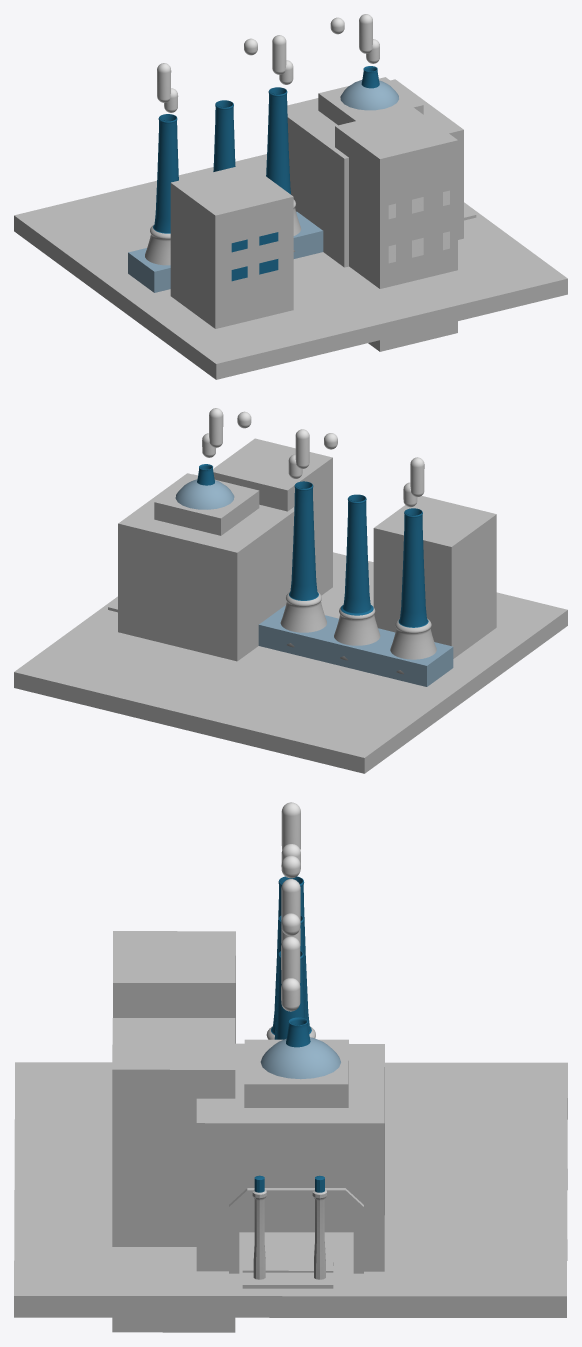
File: factory_ex_4.glb
3 views of the same model, one above another, from view 1: azimuth 30°, elevation 25°; view 2: azimuth 150°, elevation 25°; view 3: azimuth 270°, elevation 25° (orthographic). The views are drawn at different scales.
Visible parts, largest first — view 1: pCube1, pCube45, pCube44, pCube2, pCylinder1, pCylinder3, pCube3, pCylinder2, pSphere1, pSphere15, pSphere33, pSphere3; view 2: pCube1, pCube2, pCube44, pCube45, pCube3, pCylinder3, pCylinder1, pCylinder2, pSphere1, pSphere33, pSphere15, pSphere3; view 3: pCube1, pCube2, pCube45, pCube44, pSphere1, pasted__pasted__pCube50, pasted__pCylinder20, pasted__pCylinder6, pasted__pasted__pCube49, pCylinder1, pCylinder3, pSphere3 (+2 smaller).
Part boxes in pixels (bbox=[...]): pCube1: bbox=[14, 154, 567, 379]; pCube45: bbox=[335, 107, 457, 351]; pCube44: bbox=[170, 163, 293, 328]; pCube2: bbox=[287, 77, 463, 267]; pCylinder1: bbox=[145, 114, 178, 265]; pCylinder3: bbox=[266, 87, 301, 251]; pCube3: bbox=[128, 211, 323, 292]; pCylinder2: bbox=[213, 100, 235, 171]; pSphere1: bbox=[340, 80, 398, 110]; pSphere15: bbox=[272, 35, 286, 74]; pSphere33: bbox=[157, 63, 171, 102]; pSphere3: bbox=[359, 14, 372, 53]; pCube1: bbox=[14, 552, 567, 773]; pCube2: bbox=[118, 473, 294, 661]; pCube44: bbox=[373, 496, 496, 658]; pCube45: bbox=[213, 438, 332, 595]; pCube3: bbox=[258, 605, 453, 686]; pCylinder3: bbox=[280, 481, 326, 647]; pCylinder1: bbox=[390, 508, 436, 674]; pCylinder2: bbox=[334, 494, 380, 660]; pSphere1: bbox=[175, 479, 234, 509]; pSphere33: bbox=[410, 457, 424, 497]; pSphere15: bbox=[295, 429, 309, 468]; pSphere3: bbox=[209, 408, 223, 447]; pCube1: bbox=[14, 1062, 567, 1317]; pCube2: bbox=[196, 1039, 384, 1273]; pCube45: bbox=[112, 1018, 235, 1332]; pCube44: bbox=[113, 931, 235, 1043]; pSphere1: bbox=[260, 1037, 340, 1079]; pasted__pasted__pCube50: bbox=[242, 1272, 333, 1288]; pasted__pCylinder20: bbox=[252, 1175, 266, 1279]; pasted__pCylinder6: bbox=[312, 1175, 326, 1279]; pasted__pasted__pCube49: bbox=[242, 1258, 333, 1272]; pCylinder1: bbox=[266, 876, 315, 1039]; pCylinder3: bbox=[276, 951, 304, 1039]; pSphere3: bbox=[281, 936, 300, 983].
Bounding box in the file's own units: 1.47 × 1.12 × 1.47.
